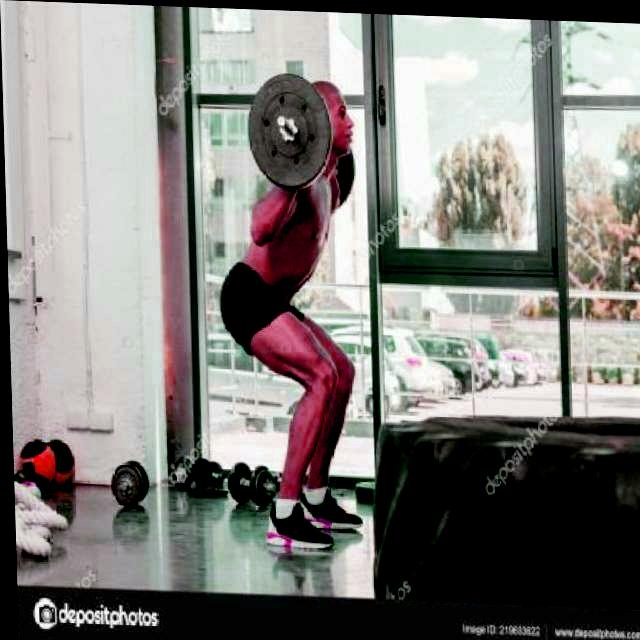barbell: (243, 65, 335, 192)
